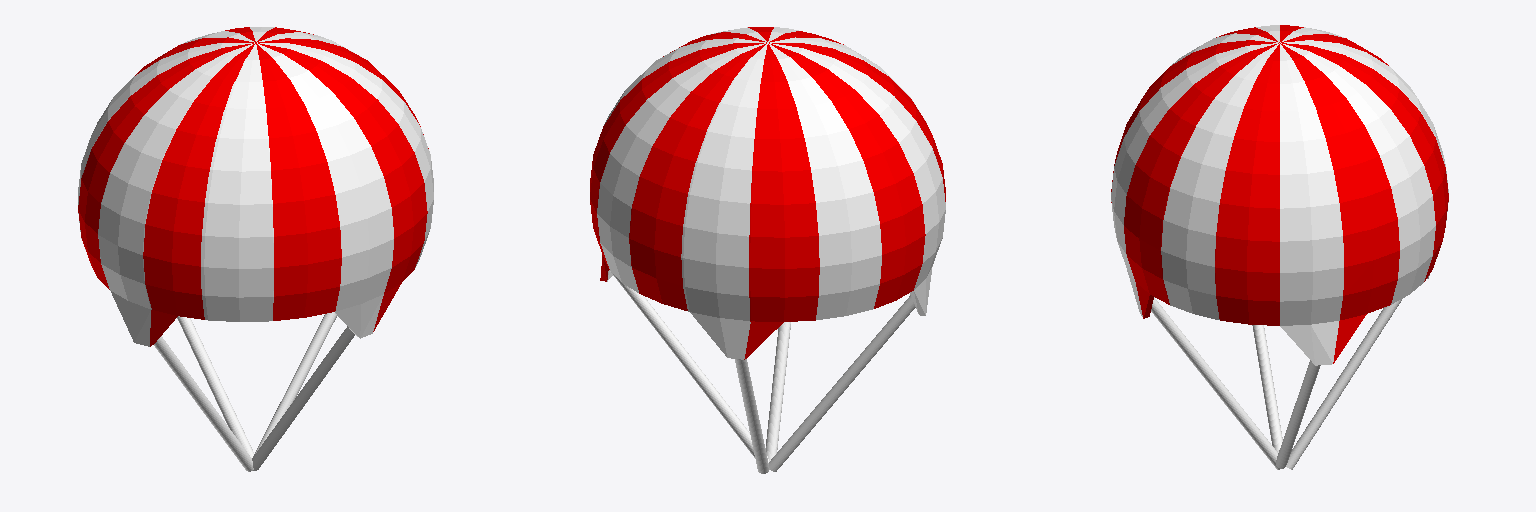
3 renders of one model, left to right at view 1: azimuth 30°, elevation 25°; view 2: azimuth 150°, elevation 25°; view 3: azimuth 270°, elevation 25°, orthographic.
Parts seen in each view (by area): view 1: 円柱; view 2: 円柱; view 3: 円柱.
Boxes of the visible parts, box(x1,y1,x2,y2) form: 円柱: box(78, 27, 433, 471); 円柱: box(590, 27, 945, 473); 円柱: box(1111, 25, 1448, 469).
Size of the model in its own units: 3.28 by 4.24 by 3.05.
Materials: 1 (1 with a texture image).